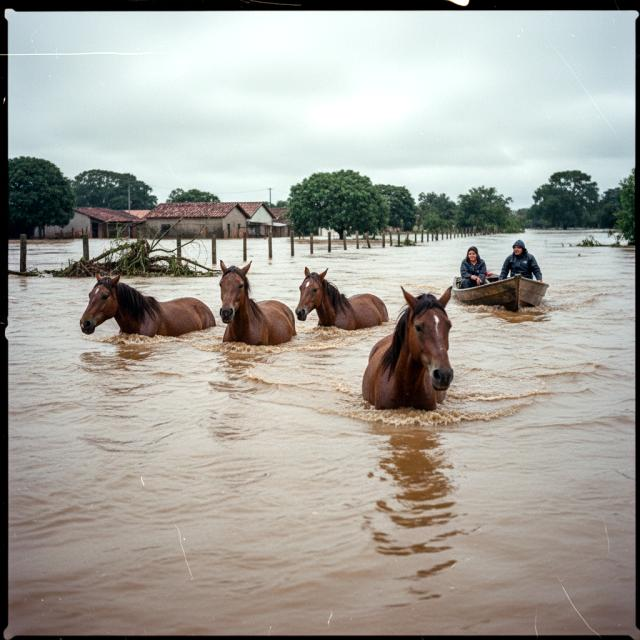civilian: (500, 240, 539, 280), (460, 240, 486, 288)
horse: (351, 284, 461, 410), (208, 255, 306, 356), (75, 275, 205, 348), (288, 262, 397, 334)
